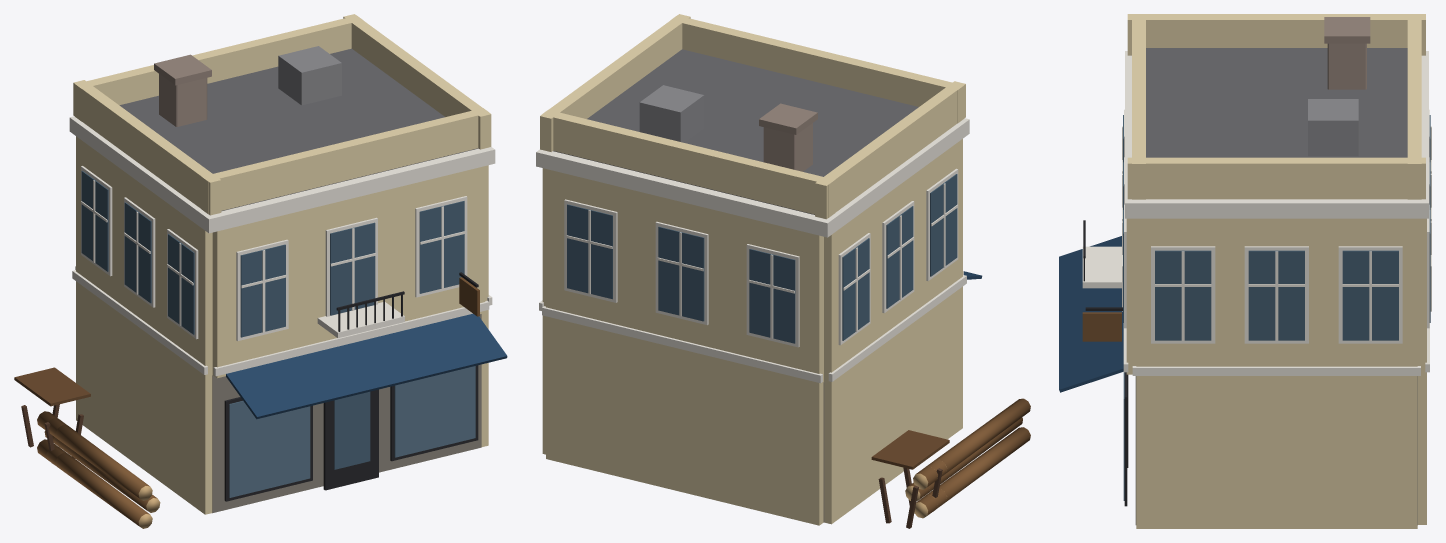
File: sawmill_4.glb
3 views of the same model, side by side, from view 1: azimuth 30°, elevation 25°; view 2: azimuth 150°, elevation 25°; view 3: azimuth 270°, elevation 25° (orthographic). The views are drawn at different scales.
Parts seen in each view (by area): view 1: sawmill4_plaster, sawmill4_glass, sawmill4_stone, sawmill4_wood, sawmill4_cloth, sawmill4_log, sawmill4_iron, sawmill4_brick; view 2: sawmill4_plaster, sawmill4_glass, sawmill4_stone, sawmill4_wood, sawmill4_log, sawmill4_brick, sawmill4_iron; view 3: sawmill4_plaster, sawmill4_glass, sawmill4_stone, sawmill4_wood, sawmill4_cloth, sawmill4_iron, sawmill4_brick.
Part boxes in pixels (<box>): sawmill4_plaster: <box>73,14,491,514</box>; sawmill4_glass: <box>81,171,475,497</box>; sawmill4_stone: <box>69,116,495,513</box>; sawmill4_wood: <box>14,166,479,501</box>; sawmill4_cloth: <box>226,313,507,419</box>; sawmill4_log: <box>37,411,160,528</box>; sawmill4_iron: <box>278,46,478,331</box>; sawmill4_brick: <box>154,54,211,126</box>; sawmill4_plaster: <box>540,14,965,525</box>; sawmill4_glass: <box>567,174,957,343</box>; sawmill4_stone: <box>536,118,969,522</box>; sawmill4_wood: <box>564,168,958,528</box>; sawmill4_log: <box>905,398,1030,518</box>; sawmill4_brick: <box>759,103,817,171</box>; sawmill4_iron: <box>639,85,704,142</box>; sawmill4_plaster: <box>1126,14,1426,528</box>; sawmill4_glass: <box>1123,115,1430,500</box>; sawmill4_stone: <box>1082,51,1429,524</box>; sawmill4_wood: <box>1082,109,1431,506</box>; sawmill4_cloth: <box>1059,236,1123,392</box>; sawmill4_iron: <box>1083,99,1358,310</box>; sawmill4_brick: <box>1324,17,1370,89</box>.
Size of the model in its own units: 8 by 7.67 by 6.63.
